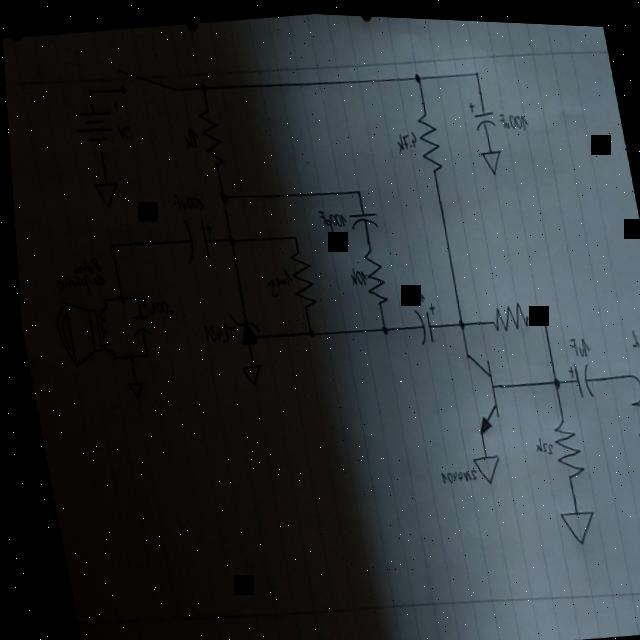capacitor: (173, 211, 214, 264), (407, 295, 437, 340), (560, 352, 589, 395), (465, 93, 494, 127), (343, 203, 378, 226), (123, 309, 149, 337)
ground: (550, 499, 592, 542), (463, 445, 498, 481), (90, 176, 119, 208), (476, 142, 503, 171), (234, 358, 260, 385), (119, 375, 141, 399), (636, 506, 640, 546)
inductor: (616, 357, 640, 507)
junction: (543, 366, 558, 388), (214, 186, 227, 202), (196, 76, 208, 91), (450, 310, 462, 325), (410, 64, 421, 80), (222, 228, 233, 243), (533, 304, 544, 319), (374, 317, 385, 332), (300, 321, 311, 336), (83, 81, 92, 95), (470, 62, 480, 73), (351, 181, 360, 193), (113, 290, 121, 301), (129, 289, 136, 301), (287, 228, 295, 238), (104, 237, 111, 248), (122, 348, 129, 359), (139, 349, 144, 355)
resistor: (543, 407, 579, 474), (411, 103, 443, 170), (282, 243, 314, 308), (356, 239, 387, 303), (194, 102, 224, 165), (483, 291, 528, 330)
source: (66, 95, 123, 146)
switch: (112, 56, 177, 97)
text: (51, 266, 102, 297), (258, 260, 291, 296), (166, 184, 204, 214), (312, 202, 347, 233), (134, 290, 169, 317), (197, 315, 232, 342), (431, 459, 472, 482), (494, 103, 528, 128), (65, 250, 98, 275), (391, 121, 418, 150), (395, 280, 423, 301), (562, 327, 586, 351), (178, 120, 199, 147), (622, 317, 640, 348), (342, 259, 364, 284), (526, 428, 549, 451), (113, 119, 131, 139)
thyristor: (223, 305, 258, 345)
transistor: (452, 340, 499, 434)
